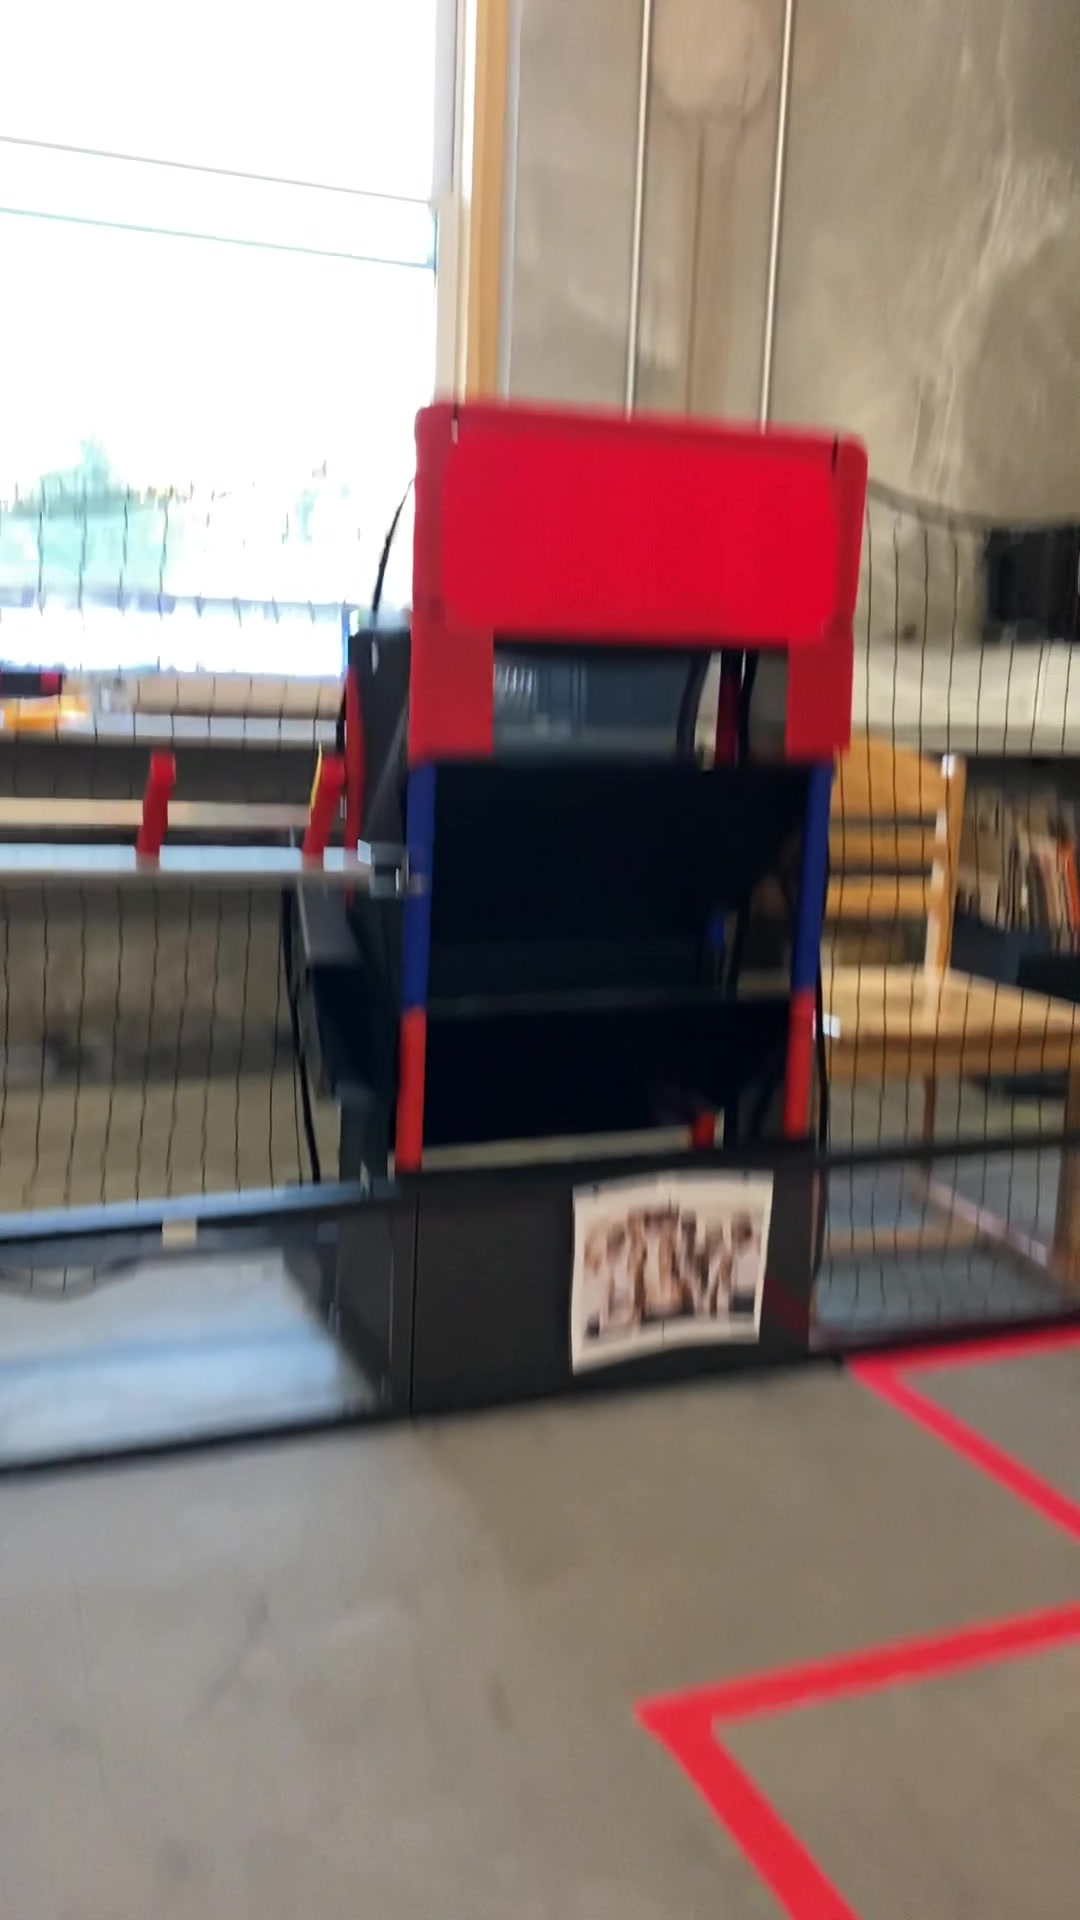high_goal: (487, 630, 791, 770)
